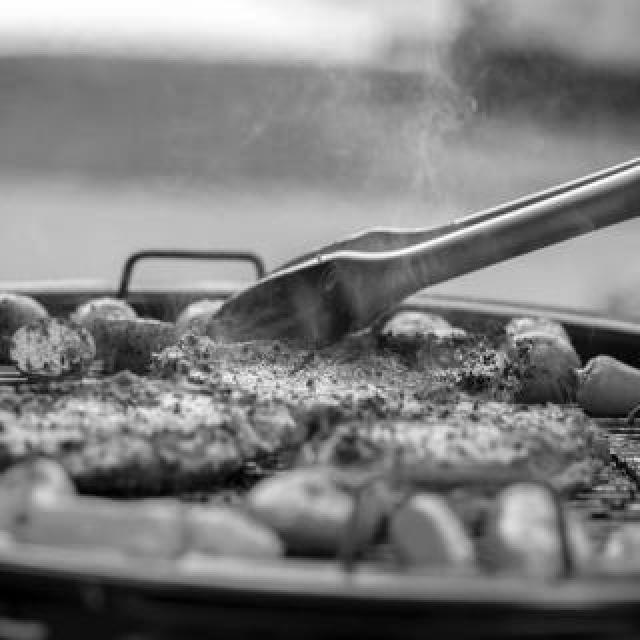Smoke: (290, 23, 526, 240)
